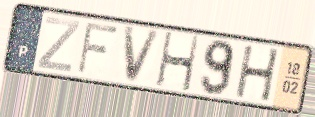9: (197, 37, 236, 98)
F: (74, 20, 121, 77)
H: (154, 30, 201, 94), (234, 44, 282, 104)
V: (122, 25, 164, 85)
Z: (35, 15, 82, 75)
